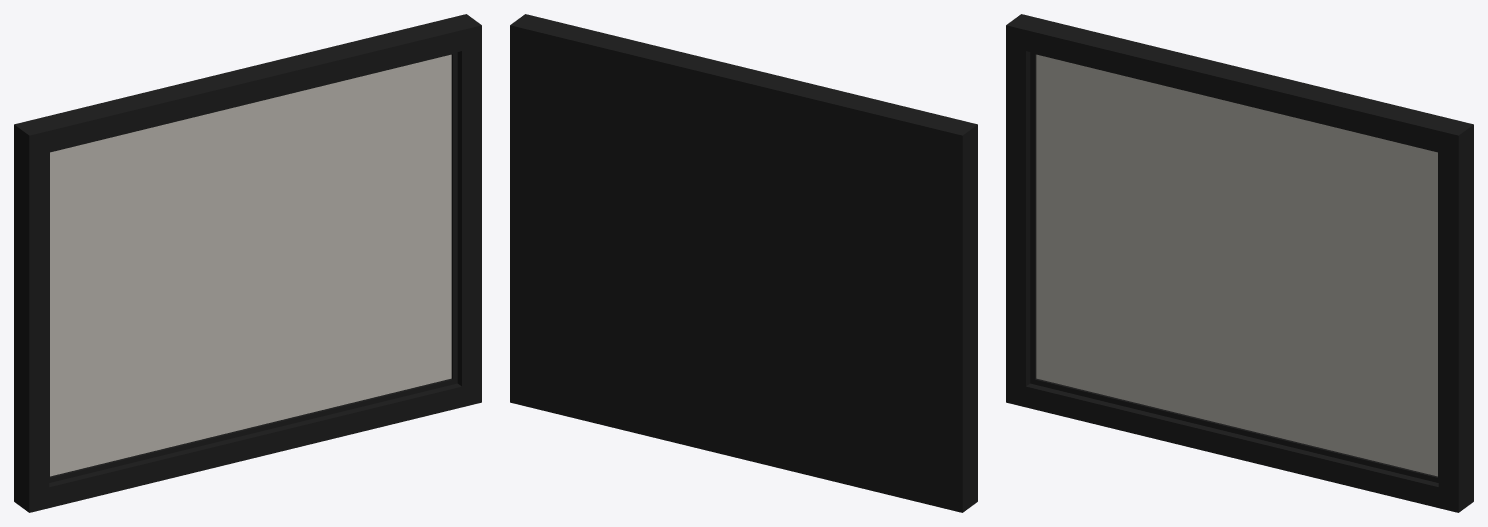
The model's file is marco-h.glb.
3 views of the same model, side by side, from view 1: azimuth 30°, elevation 25°; view 2: azimuth 150°, elevation 25°; view 3: azimuth 330°, elevation 25° (orthographic).
Parts seen in each view (by area): view 1: obra1, marco; view 2: marco; view 3: obra1, marco.
Boxes of the visible parts, <box> form: obra1: <box>50,54,451,476</box>; marco: <box>14,14,481,512</box>; marco: <box>510,14,977,512</box>; obra1: <box>1036,54,1437,476</box>; marco: <box>1006,14,1473,512</box>.
Size of the model in its own units: 0.374 by 0.298 by 0.022.
2 materials, 1 textured.
